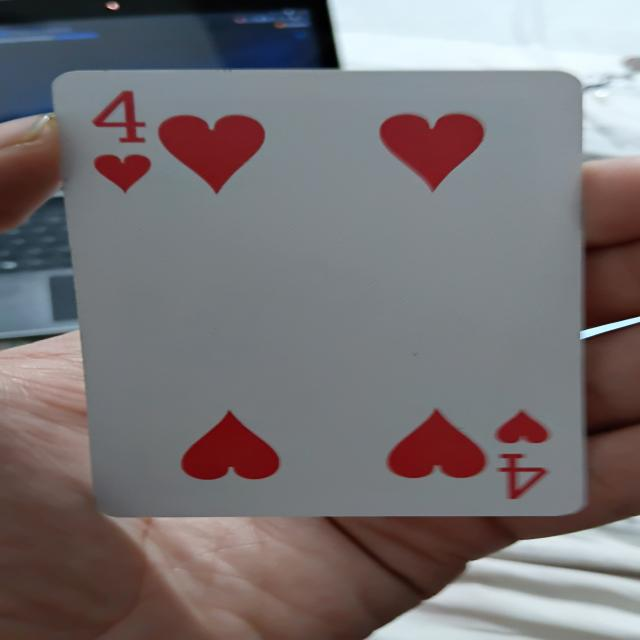4H: (59, 68, 596, 520)
